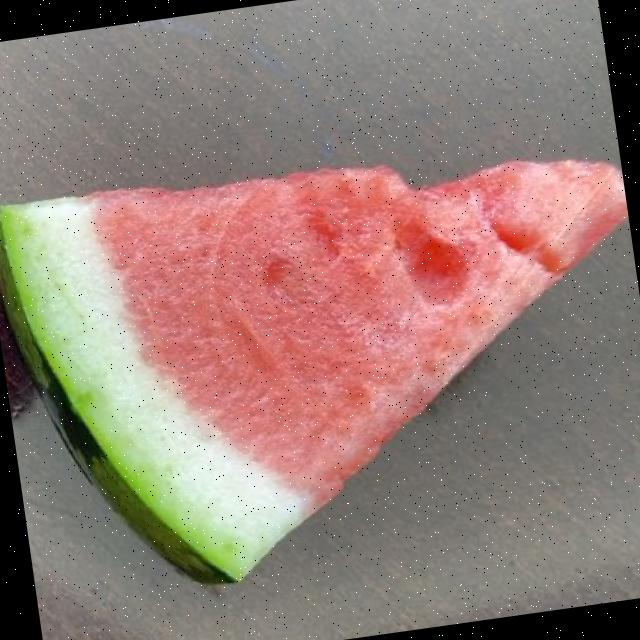watermelon-fresh: (17, 163, 612, 575)
